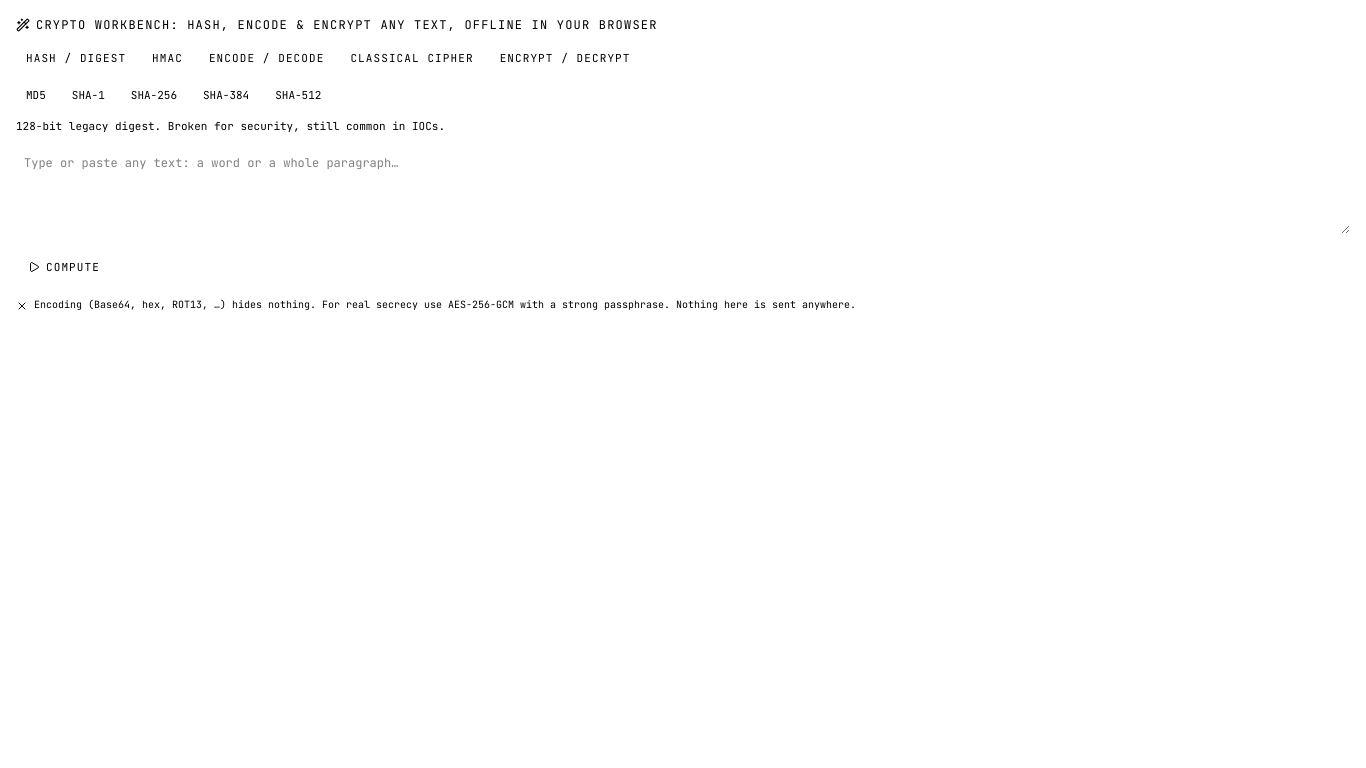
Test: <CryptoWorkbench> classical ciphers › runs a Caesar shift and reports a bad shift inline
Step 1. Click the tab "Classical cipher" → (412, 58), box [340, 46, 484, 70]
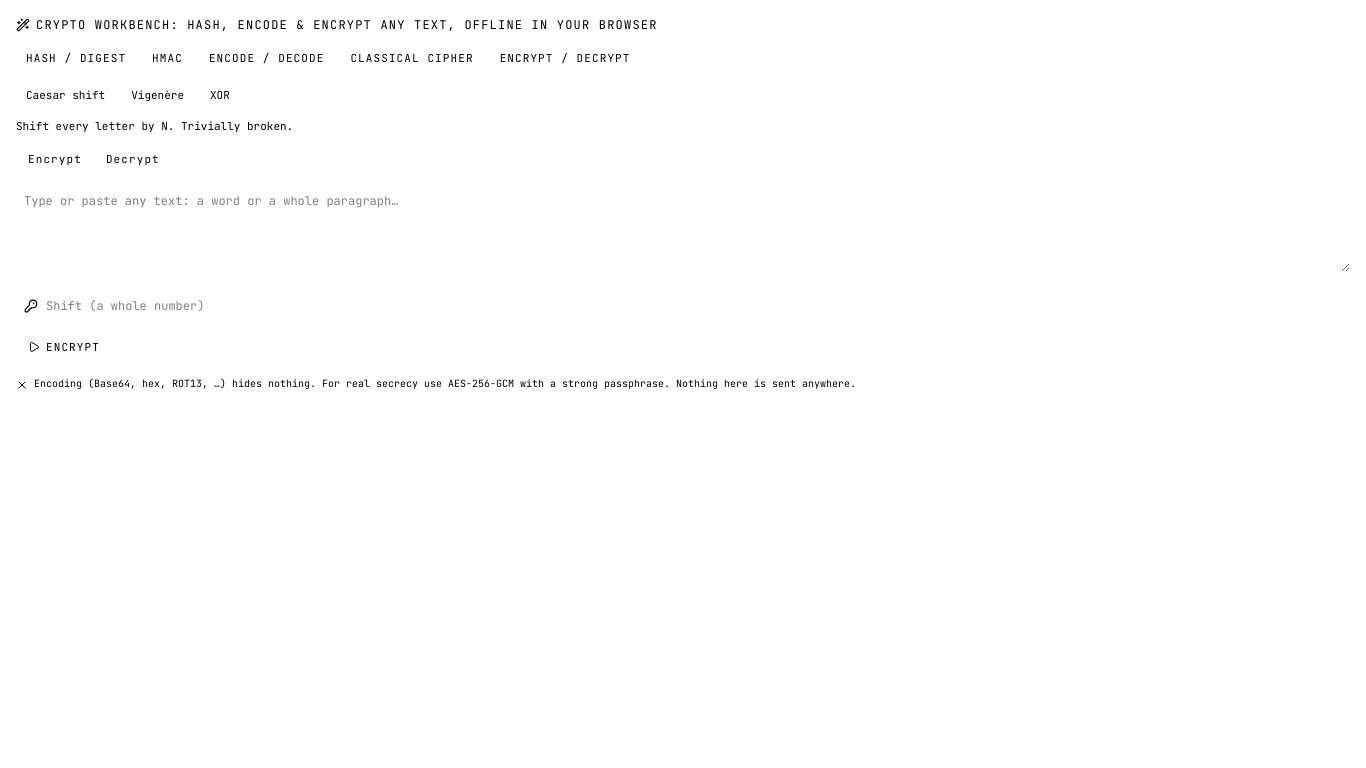
Step 2. Type "abc" into the text box named "Input text" → (683, 228), box [16, 184, 1350, 272]
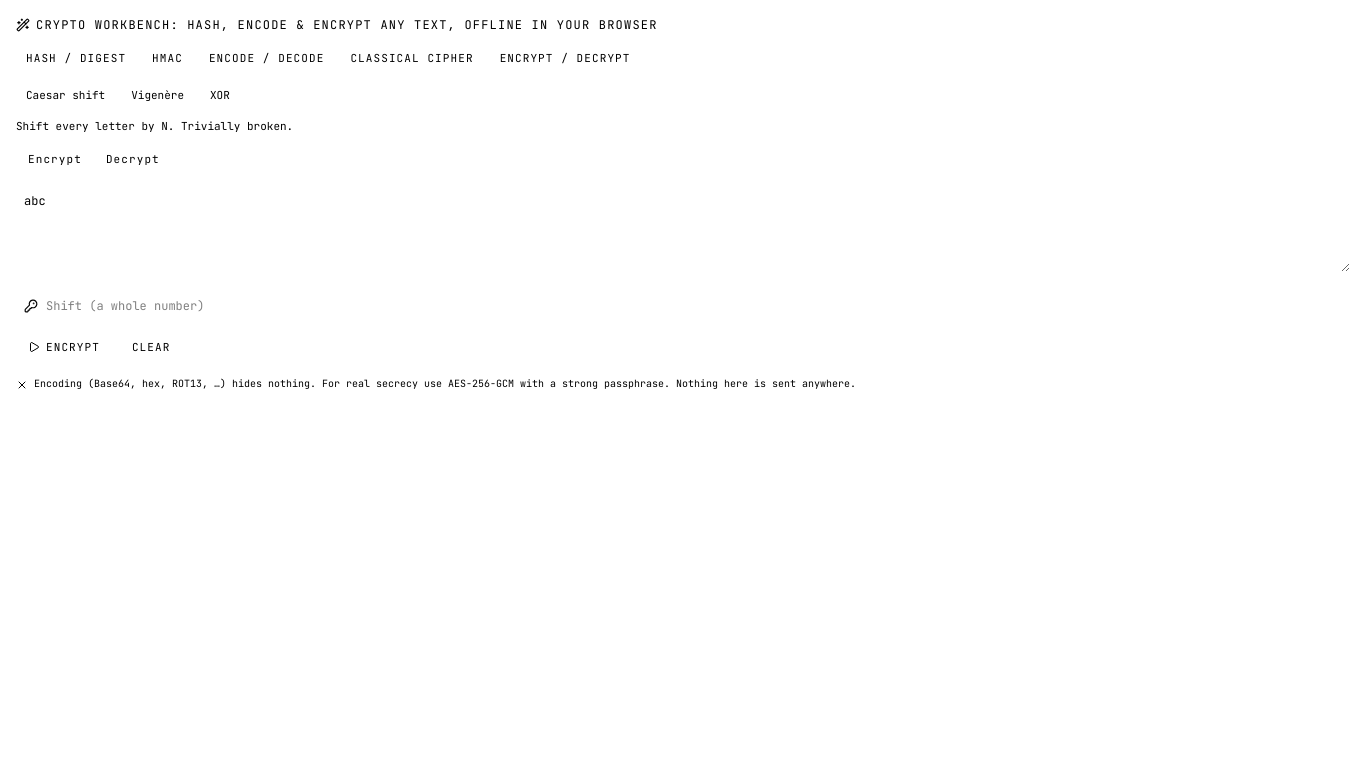
Step 3. Type "3" into the field labelled "Shift (a whole number)" → (694, 306), box [46, 291, 1342, 321]
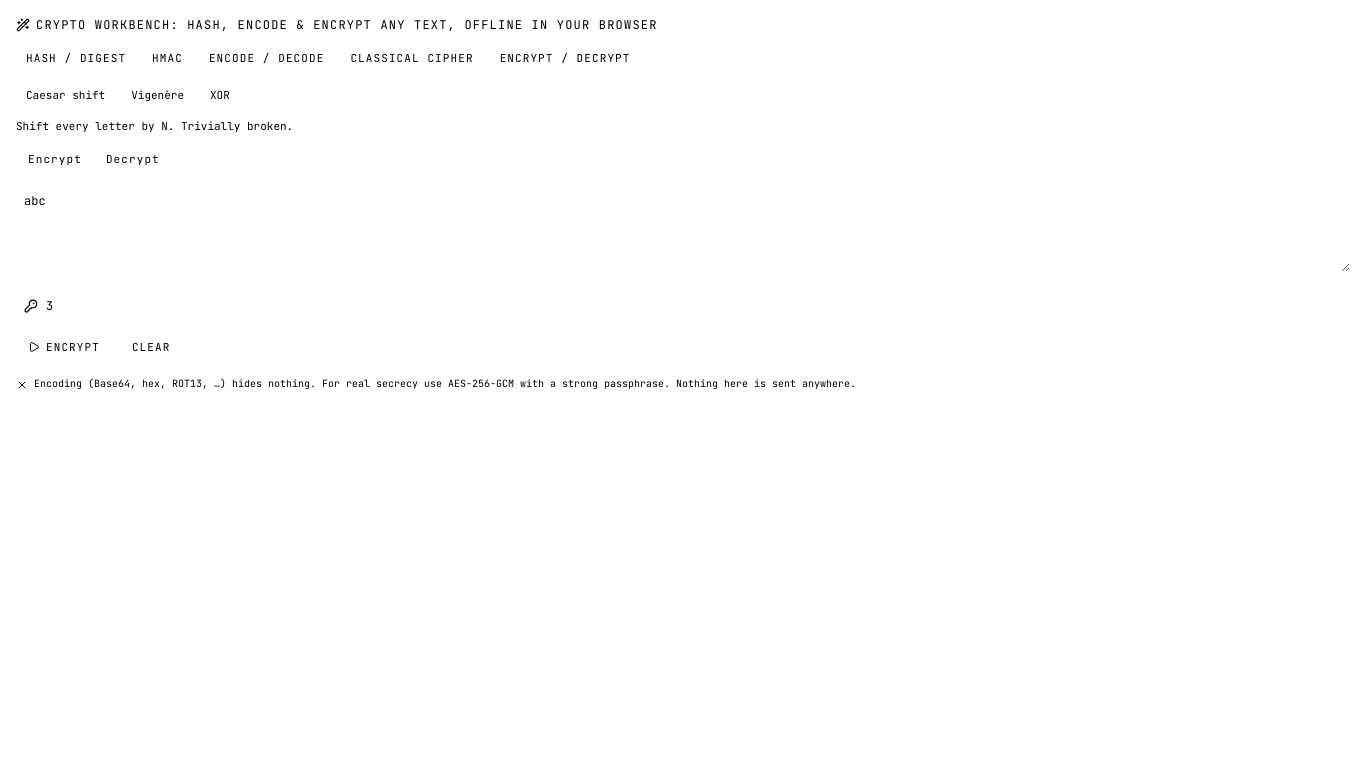
Step 4. Click the 2nd button "Encrypt" → (64, 347), box [16, 333, 112, 361]
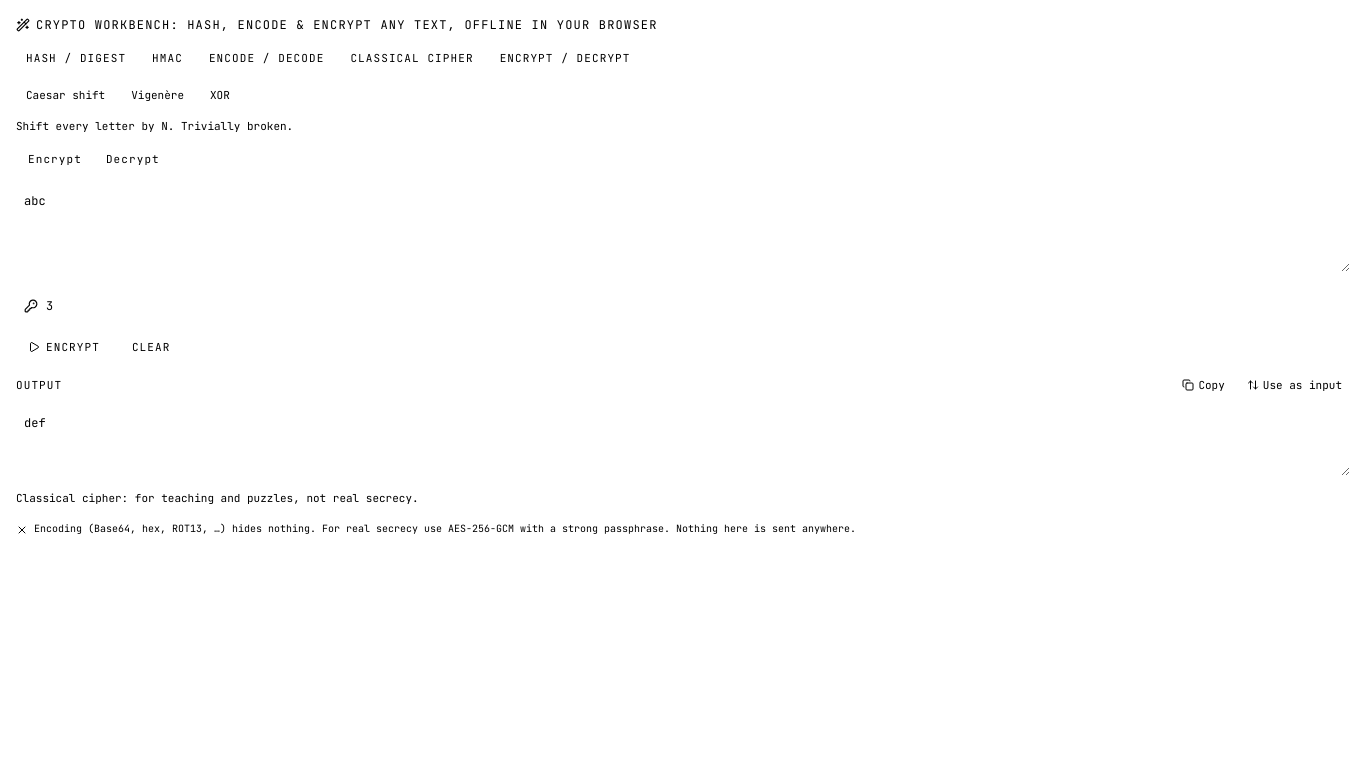
Expected: the text box named "Output" holds "def", [16, 406, 1350, 476]
Step 5. Replace the text in the field named "Shift" with "oops" → (694, 306), box [46, 291, 1342, 321]
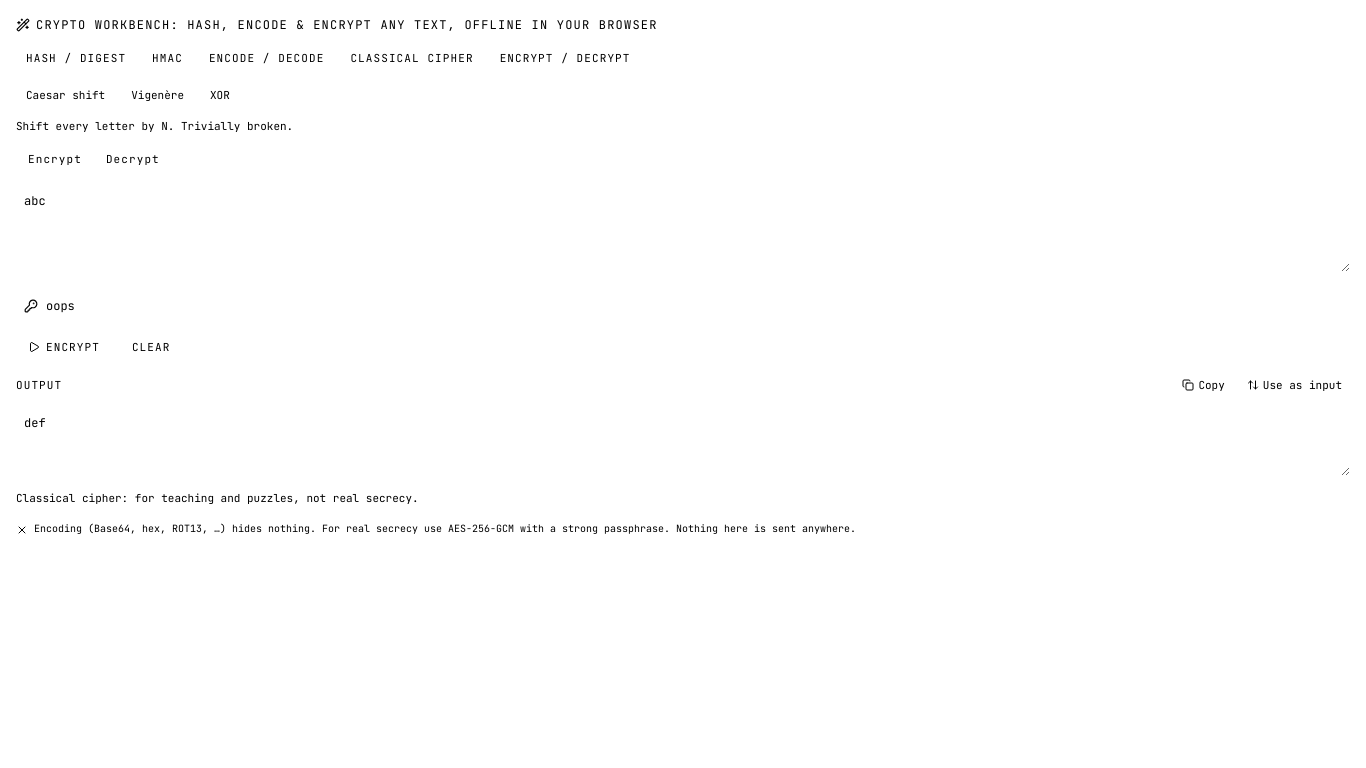
Step 6. Click the 2nd button "Encrypt" → (64, 347), box [16, 333, 112, 361]
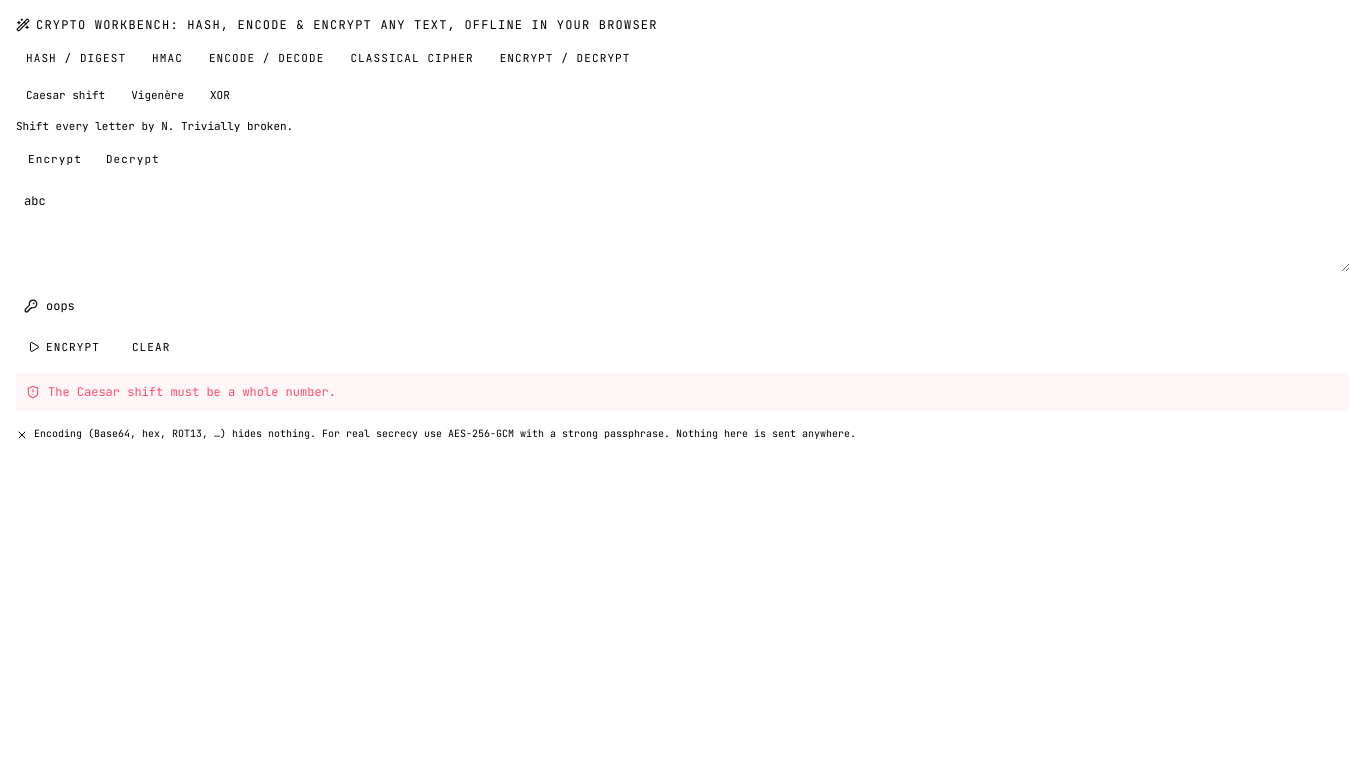
Expected: the text "The Caesar shift must be a whole number." is shown, [16, 373, 1350, 411]
